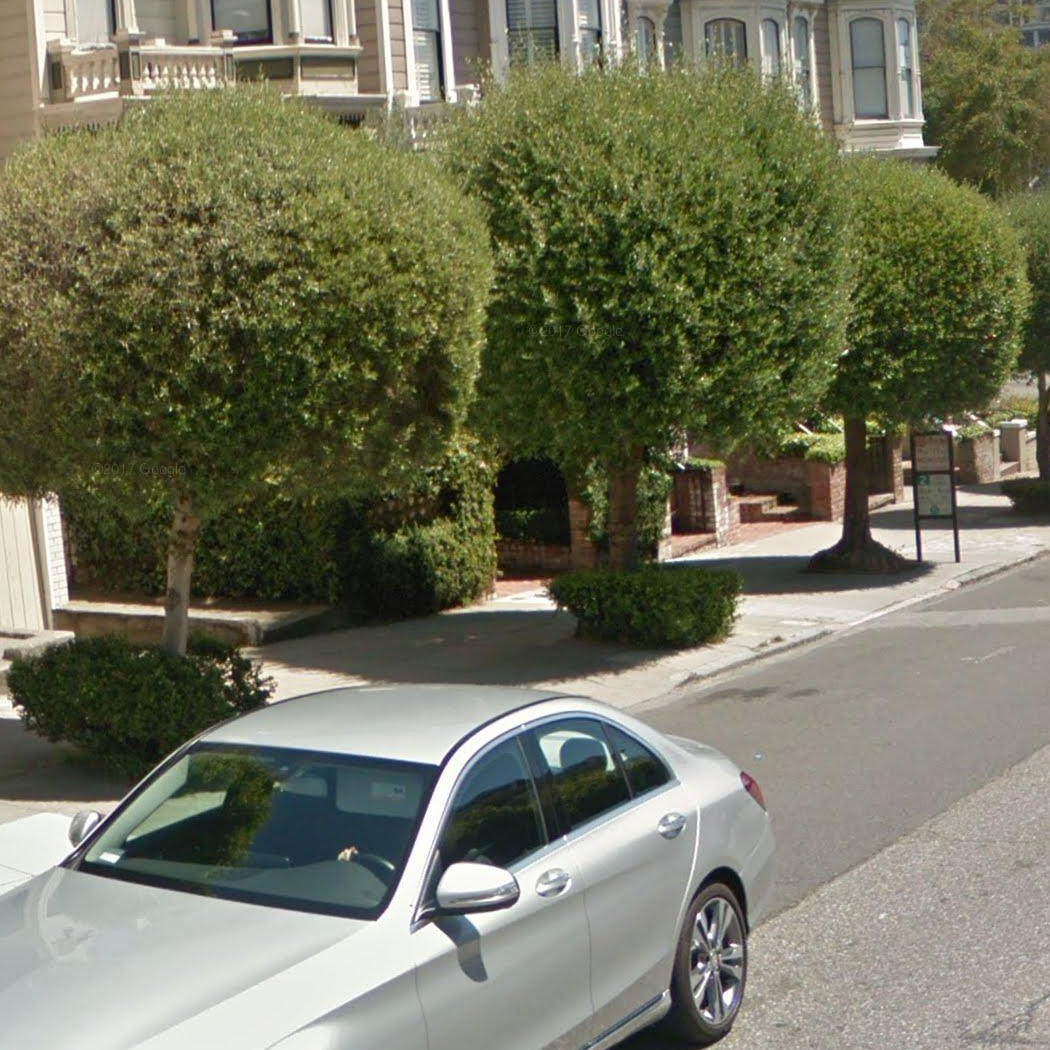2 Hour Parking: (913, 474, 953, 517)
No Parking: (910, 430, 950, 474)
